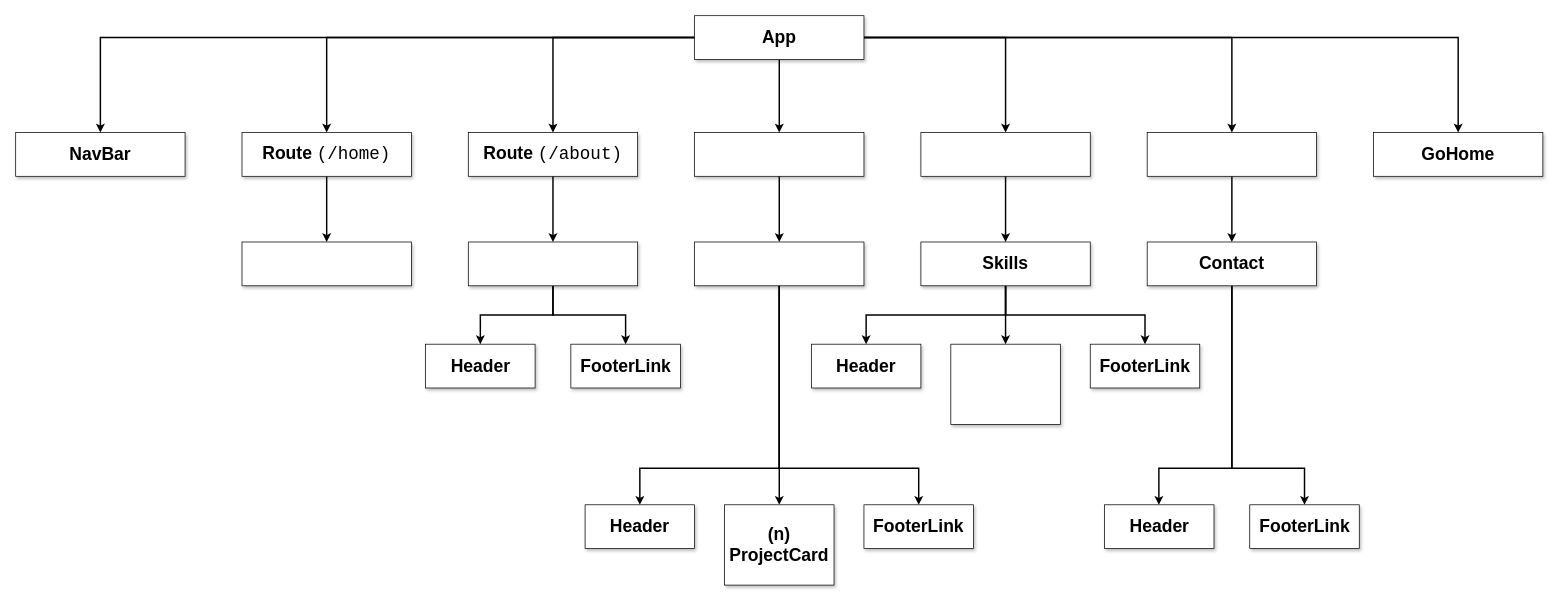
Image size: 1560x603. Some labels were removed from this diagram. Each missing label, with the centre of its shape:
"(n) SkillCard" belongs at (x=1006, y=385).
"About" belongs at (x=553, y=264).
"Home" belongs at (x=327, y=264).
"Projects" belongs at (x=779, y=264).
"Route (/contact)" belongs at (x=1232, y=155).
"Route (/projects)" belongs at (x=779, y=155).
"Route (/skills)" belongs at (x=1006, y=155).
